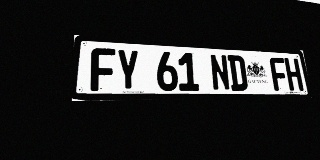1: (177, 52, 199, 91)
6: (156, 51, 179, 91)
D: (227, 55, 248, 91)
F: (90, 48, 116, 91), (269, 57, 289, 91)
H: (284, 58, 304, 91)
N: (209, 54, 231, 91)
Y: (116, 49, 140, 91)
